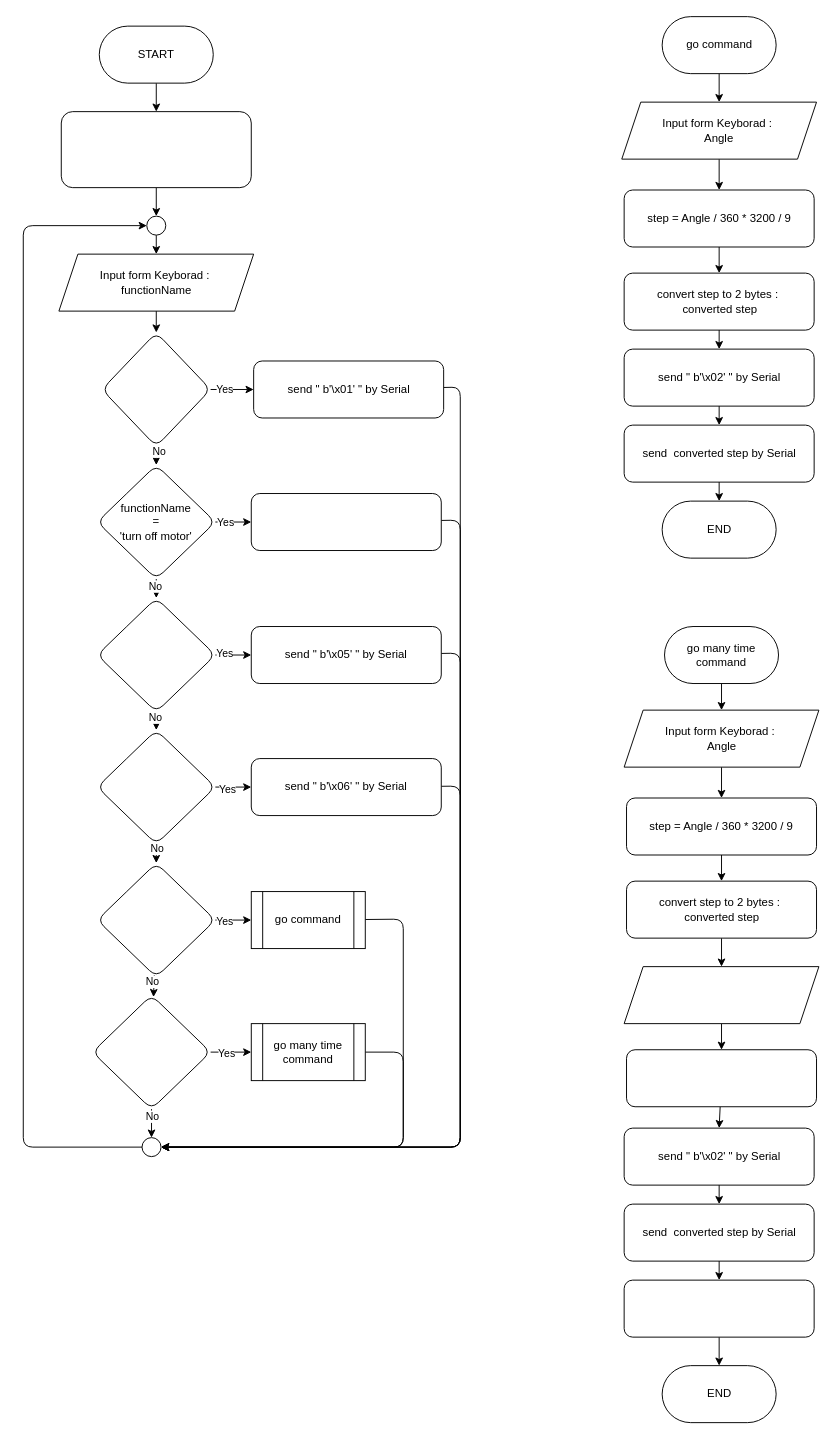
The diagram is 836 pixels wide and 1439 high, and some of its shapes have lost their labels. The shapes that lost their labels are listed below. From the top down, each one's centre as x and y in pixels, then its label:
the point at 155,149: Open Serial port
the point at 156,389: functionName = 'home'
the point at 345,522: send " b'\x04' " by Serial
the point at 155,654: functionName = 'turn on motor'
the point at 155,786: functionName = 'press the pen'
the point at 155,919: functionName = 'go'
the point at 721,995: Input form Keyborad : time
the point at 151,1051: functionName = 'go many time'
the point at 721,1078: convert step to 2 bytes : converted time
the point at 718,1308: send converted time by Serial
